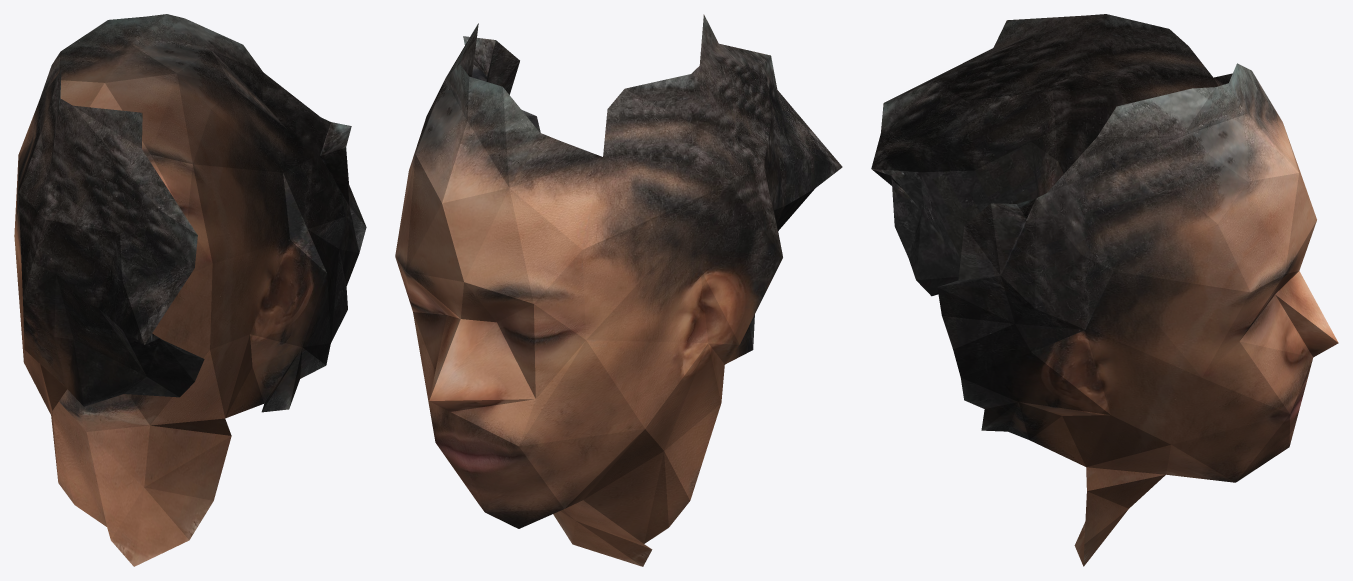
Rendered from Busto_4.glb.
3 views of the same model, side by side, from view 1: azimuth 30°, elevation 25°; view 2: azimuth 150°, elevation 25°; view 3: azimuth 270°, elevation 25° (orthographic). The views are drawn at different scales.
Visible parts, largest first — view 1: Scan 95_2; view 2: Scan 95_2; view 3: Scan 95_2.
Boxes of the visible parts, <box> form: Scan 95_2: <box>14,14,366,566</box>; Scan 95_2: <box>395,14,842,566</box>; Scan 95_2: <box>871,14,1338,566</box>.
Size of the model in its own units: 148 by 219 by 181.
Materials: 1 (1 with a texture image).
